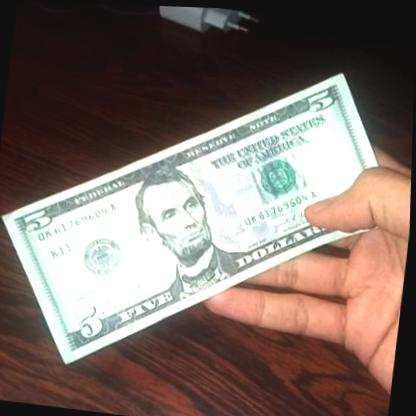five-front: (0, 29, 396, 405)
